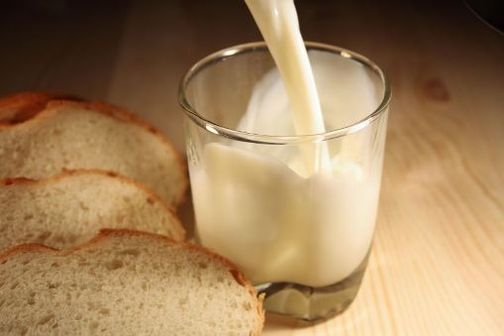glass of milk: (203, 72, 369, 275)
slice of bread: (22, 116, 159, 336)
